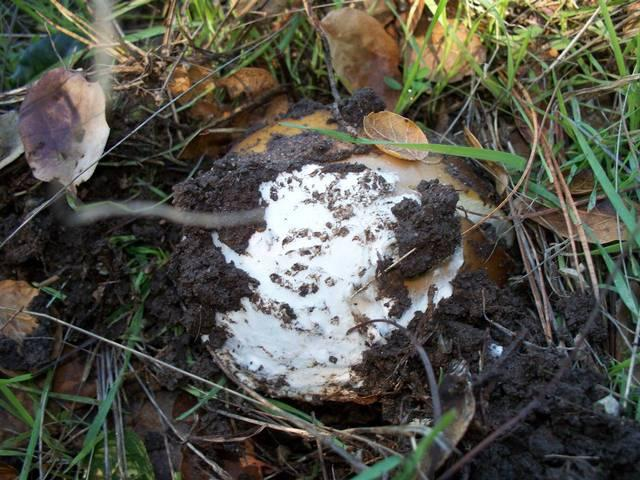edible_mushroom: (173, 92, 514, 406)
